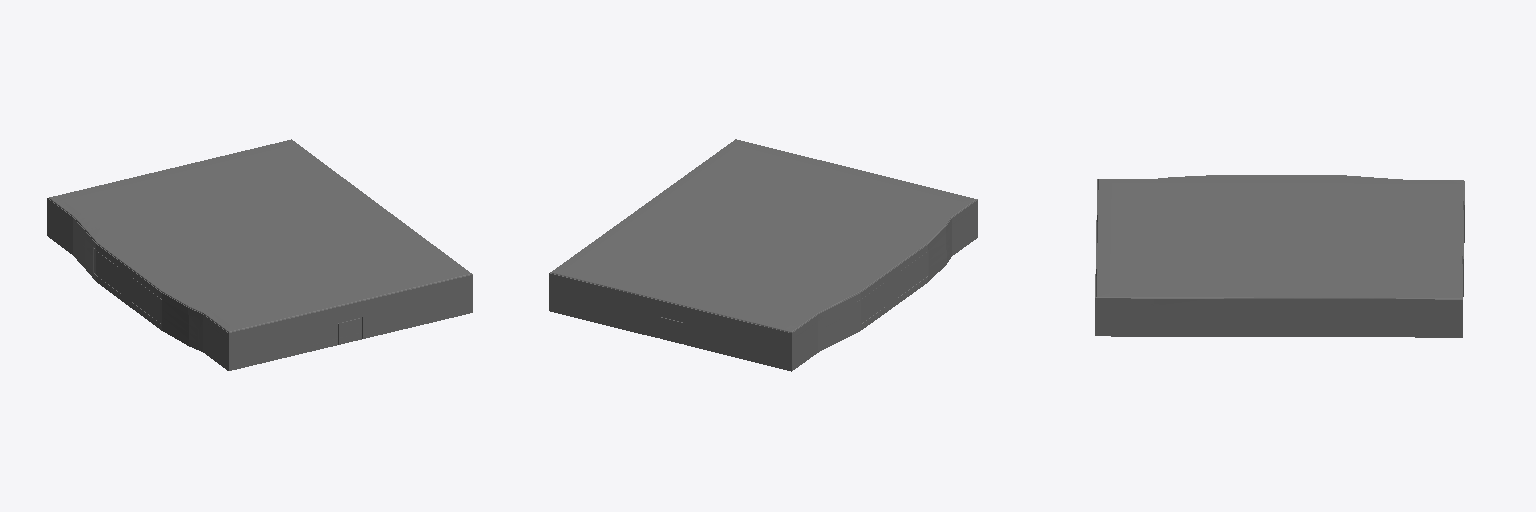
The model's file is Sala_de_jantar_parede_e_teto.obj.
3 renders of one model, left to right at view 1: azimuth 30°, elevation 25°; view 2: azimuth 150°, elevation 25°; view 3: azimuth 270°, elevation 25°, orthographic.
Visible parts, largest first — view 1: polySurface5 sala_de_jantar:pPlane1; view 2: polySurface5 sala_de_jantar:pPlane1; view 3: polySurface5 sala_de_jantar:pPlane1.
Boxes of the visible parts, x1,y1,x2,y2 form: polySurface5 sala_de_jantar:pPlane1: [47, 139, 472, 370]; polySurface5 sala_de_jantar:pPlane1: [549, 139, 977, 371]; polySurface5 sala_de_jantar:pPlane1: [1095, 175, 1464, 337].
Bounding box in the file's own units: 29.54 × 4.33 × 37.16.